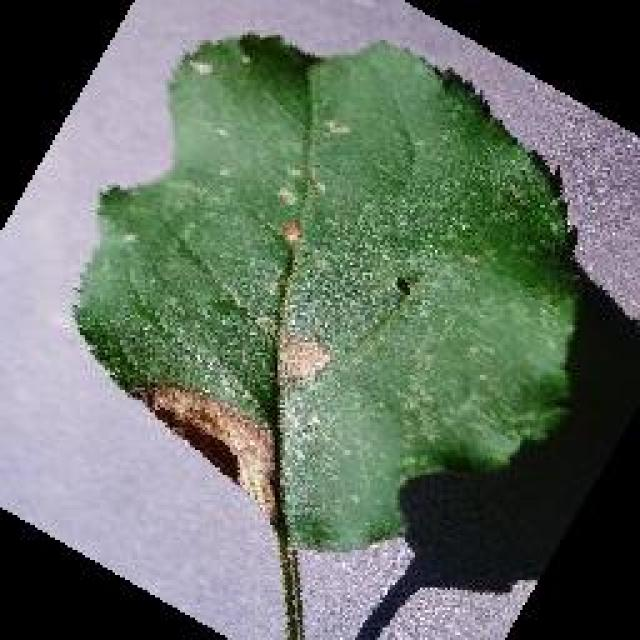Black_rot: (70, 27, 585, 555)
